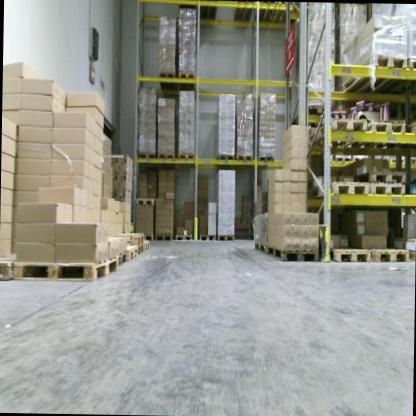pallet: (12, 254, 119, 284), (343, 50, 411, 96), (309, 114, 369, 148), (356, 114, 407, 151), (306, 177, 373, 200), (268, 243, 322, 266), (389, 58, 416, 101), (327, 248, 373, 265), (364, 168, 409, 185), (369, 179, 407, 197), (370, 247, 411, 263), (197, 0, 220, 25), (0, 255, 21, 281), (271, 2, 295, 24), (156, 71, 178, 94), (177, 69, 197, 93), (233, 2, 255, 23), (254, 2, 275, 24), (120, 227, 146, 244), (215, 152, 237, 168), (177, 150, 196, 166), (399, 246, 415, 263), (257, 151, 275, 165), (137, 150, 156, 163), (351, 151, 371, 163), (156, 149, 177, 160), (134, 196, 155, 207), (237, 152, 255, 164), (118, 246, 128, 267), (128, 245, 139, 264), (218, 231, 237, 242), (408, 117, 416, 143), (155, 233, 176, 242), (174, 232, 195, 241), (333, 153, 353, 162), (392, 154, 409, 164), (255, 242, 268, 255), (142, 232, 156, 244), (200, 232, 218, 241), (139, 242, 146, 255), (144, 240, 153, 250), (409, 154, 416, 165)
